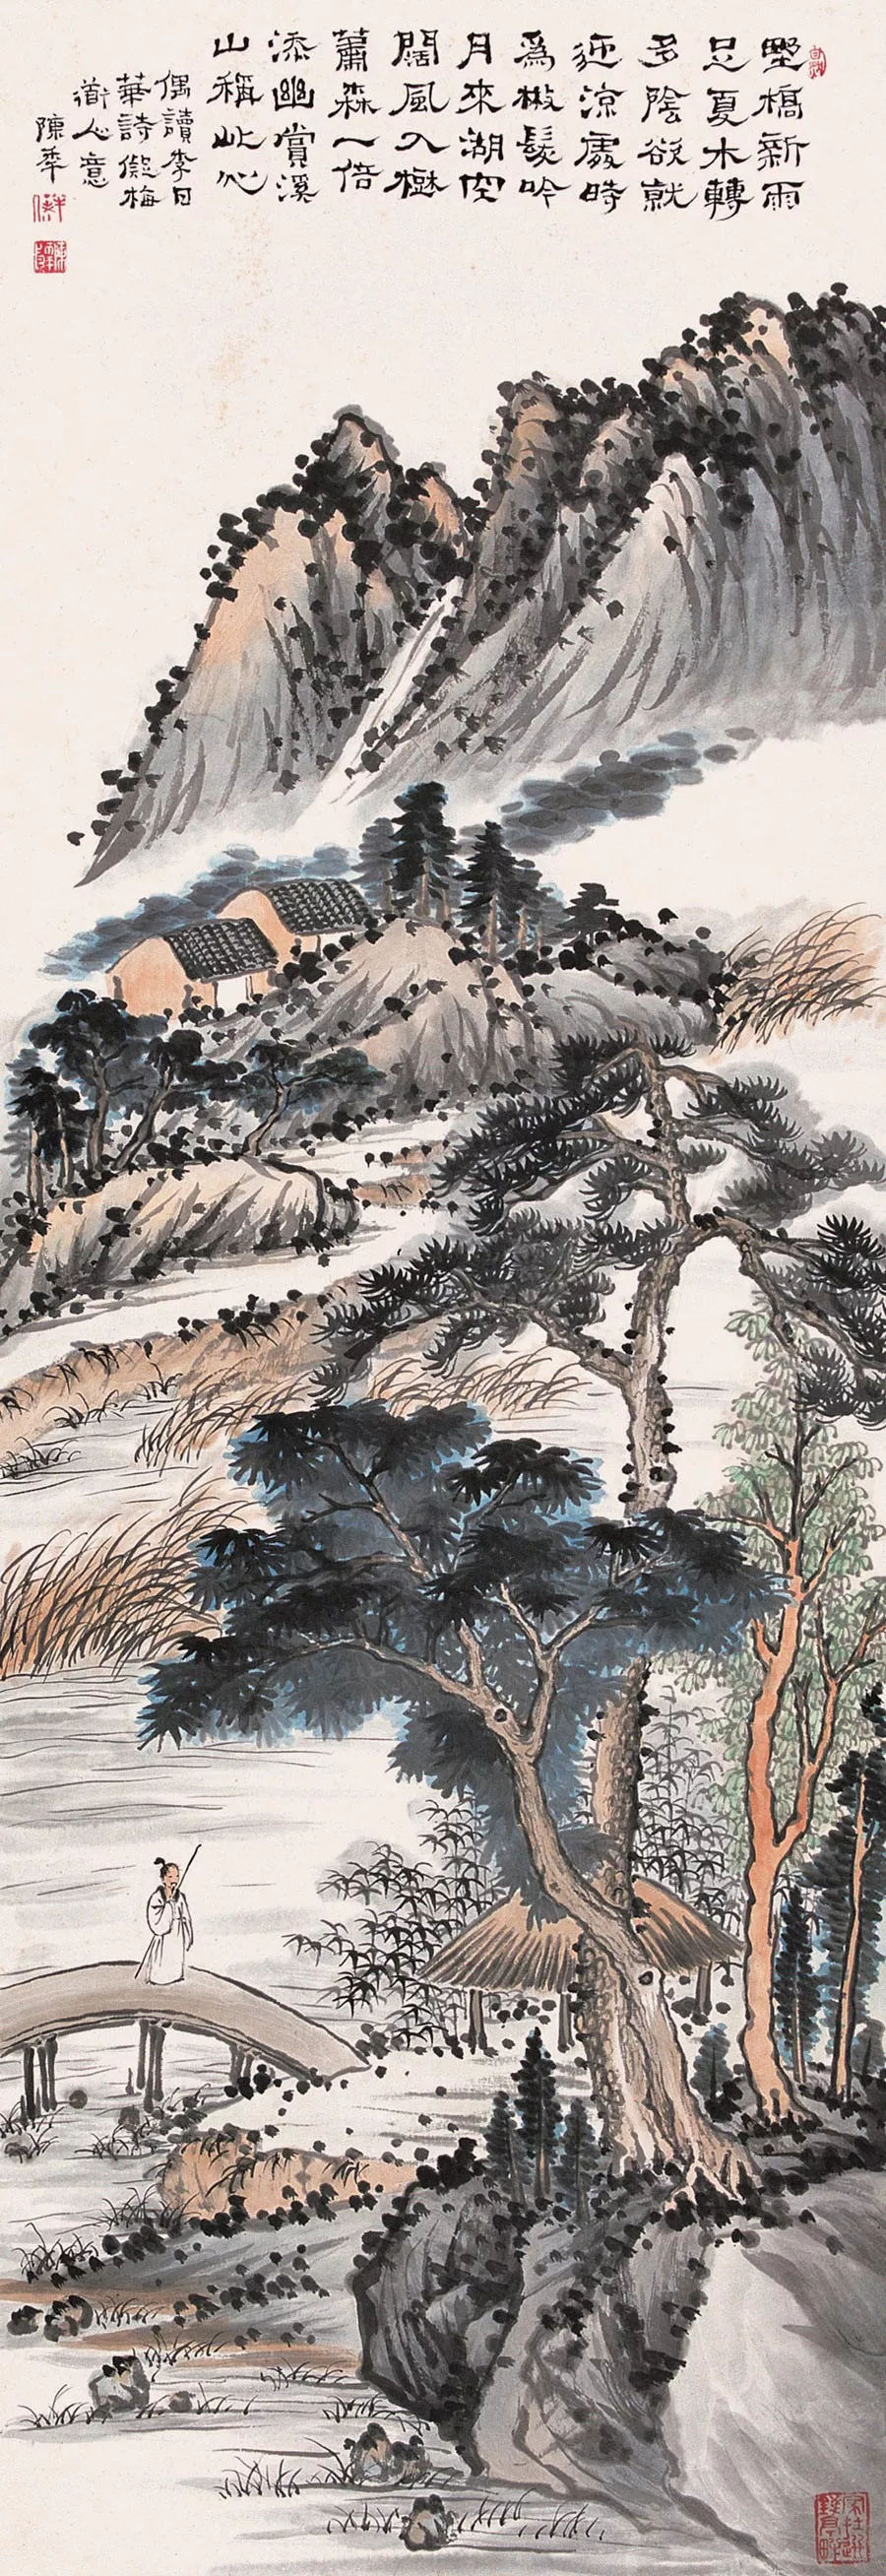bridge: (8, 1955, 369, 2119)
house: (115, 866, 378, 1045)
man: (143, 1841, 202, 1996)
mountain: (92, 278, 886, 854)
pine: (24, 1011, 411, 1211), (372, 779, 635, 940)
rock: (369, 2086, 886, 2525), (24, 1137, 348, 1325)
tree: (417, 1048, 885, 2199), (184, 1396, 808, 2209)
